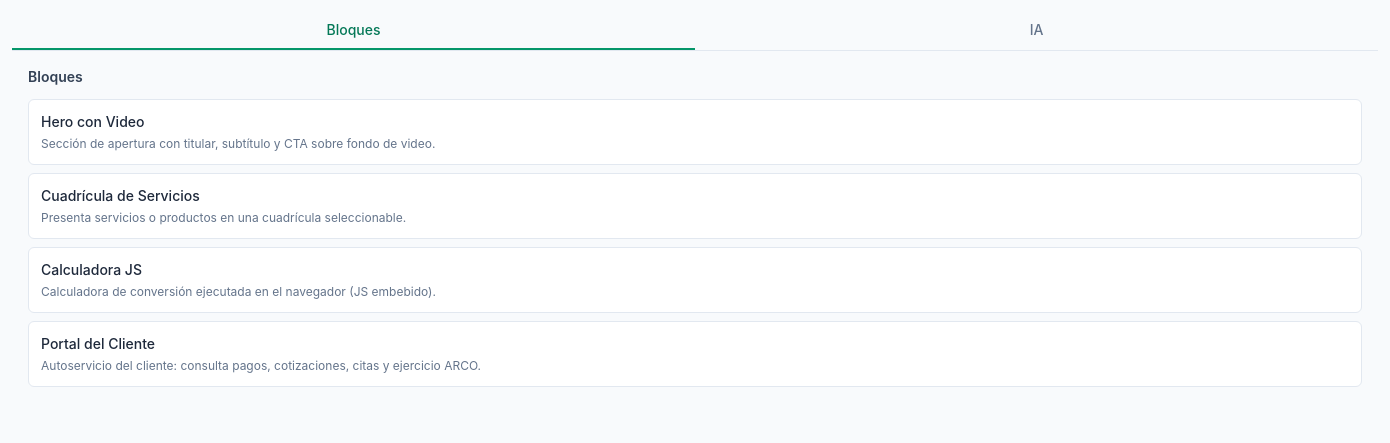
Test: EditorSidebar › cambia a la pestaña IA y muestra el panel del asistente
Click the tab "IA" at (1036, 31), box [695,12,1378,50]
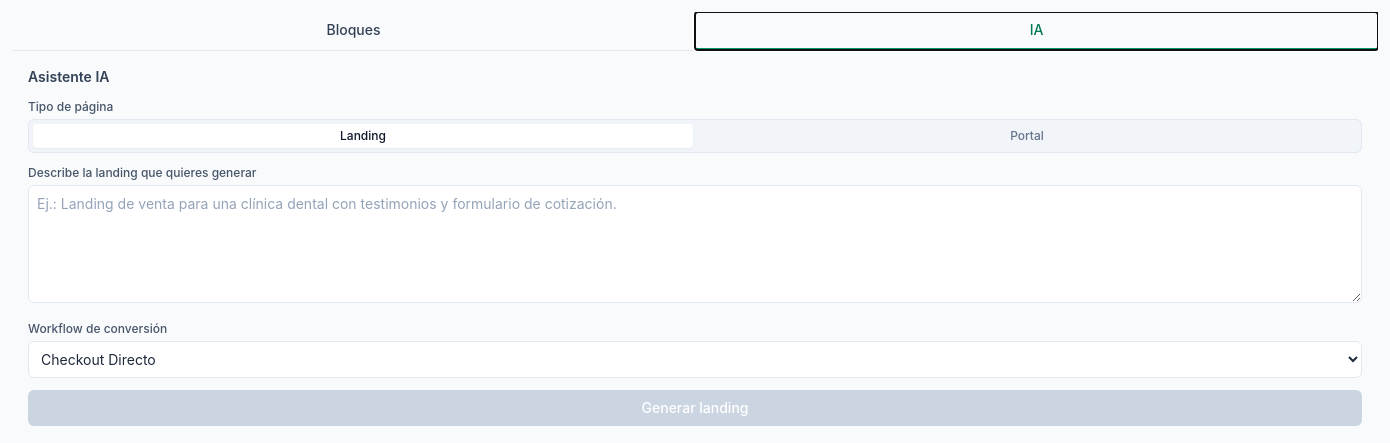
Expected: the heading "Asistente IA" is shown, [28,68,110,85]
